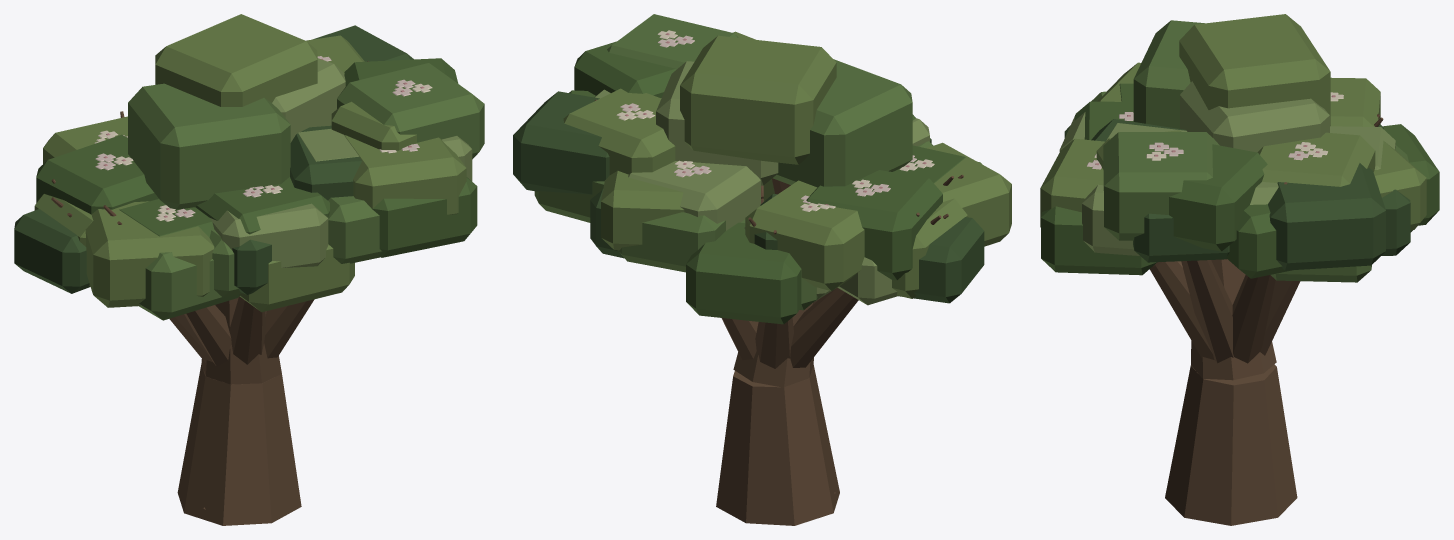
The model's file is apple_ancient_spring_3.glb.
3 views of the same model, side by side, from view 1: azimuth 30°, elevation 25°; view 2: azimuth 150°, elevation 25°; view 3: azimuth 270°, elevation 25° (orthographic). The views are drawn at different scales.
Visible parts, largest first — view 1: apple_ancient_spring_3; view 2: apple_ancient_spring_3; view 3: apple_ancient_spring_3.
Part boxes in pixels (x1=…): apple_ancient_spring_3: x1=14, y1=14, x2=484, y2=525; apple_ancient_spring_3: x1=513, y1=14, x2=1011, y2=525; apple_ancient_spring_3: x1=1040, y1=14, x2=1439, y2=525.
Size of the model in its own units: 17.42 by 18 by 14.14.
